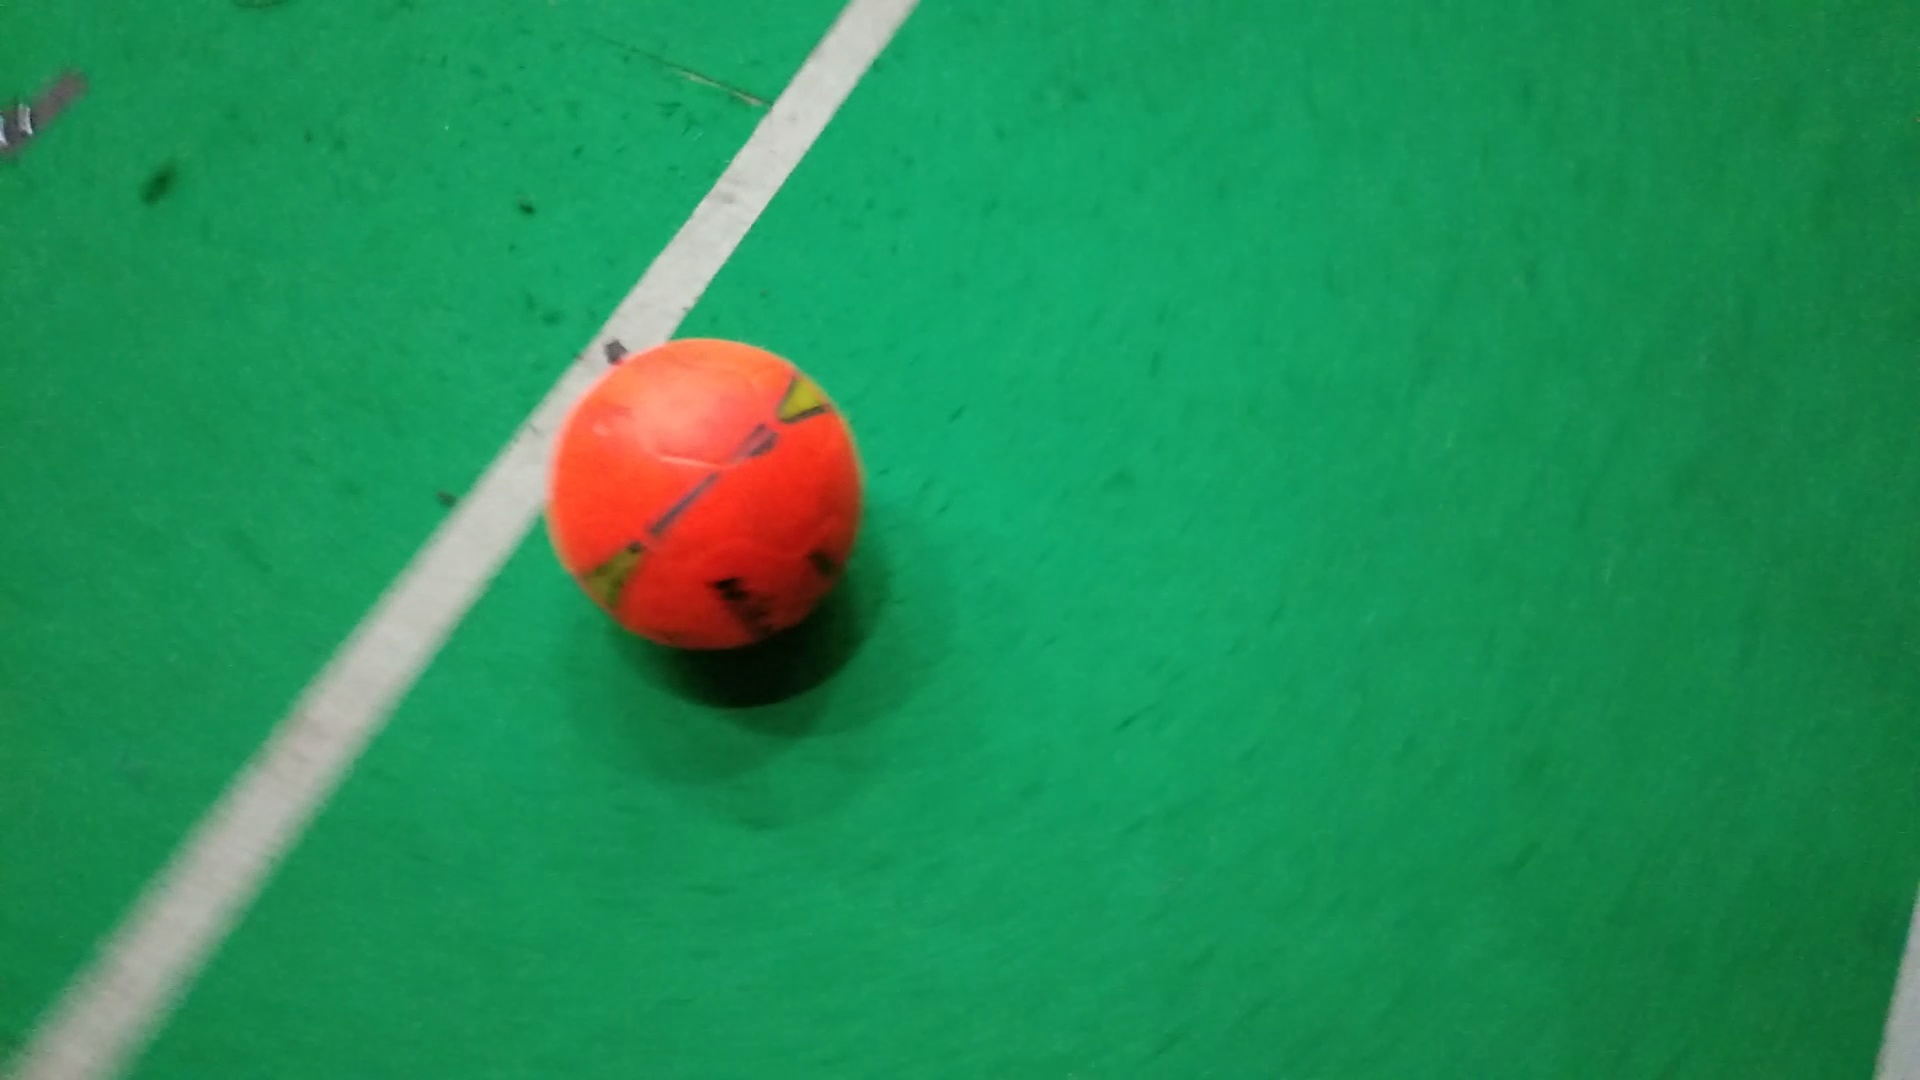bola: (535, 334, 870, 674)
